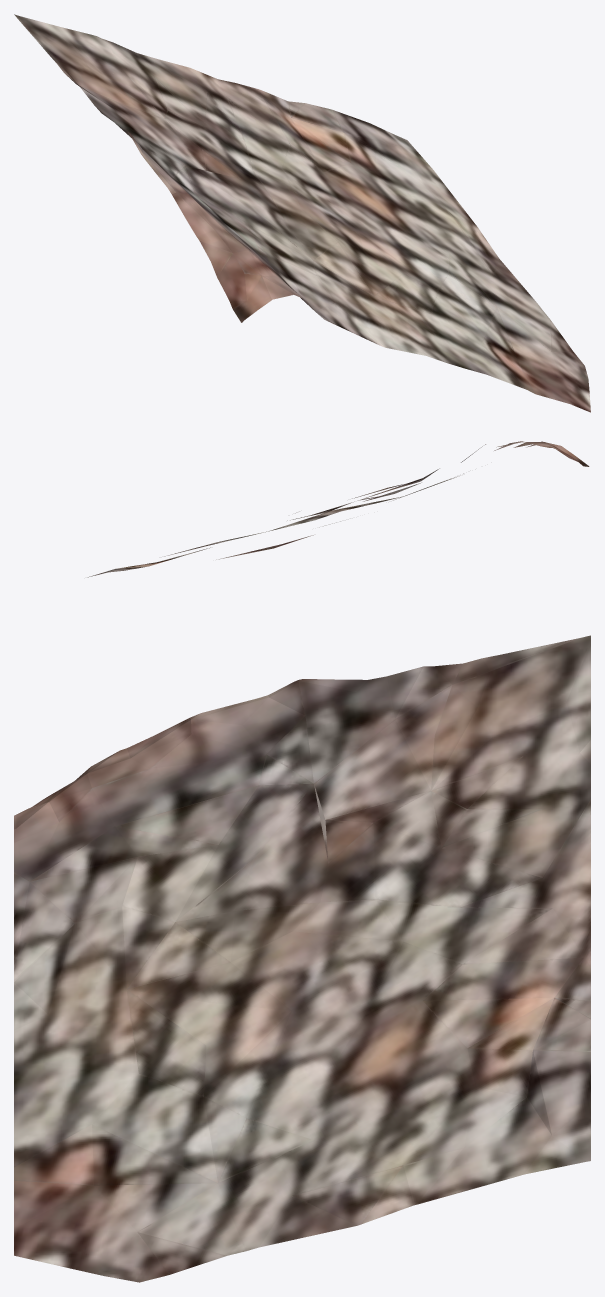
3 views of the same model, one above another, from view 1: azimuth 30°, elevation 25°; view 2: azimuth 150°, elevation 25°; view 3: azimuth 270°, elevation 25° (orthographic). The views are drawn at different scales.
Bounding box in the file's own units: 1.67 × 1.29 × 1.67.
Materials: 3 (3 with a texture image).
